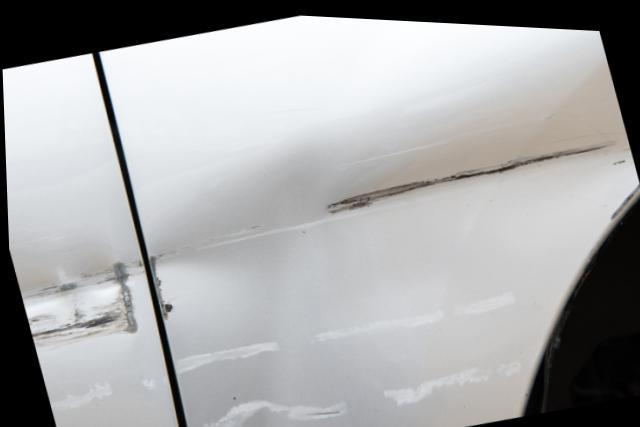dent: (154, 67, 628, 427), (16, 253, 135, 350)
scratch: (46, 379, 108, 427)
